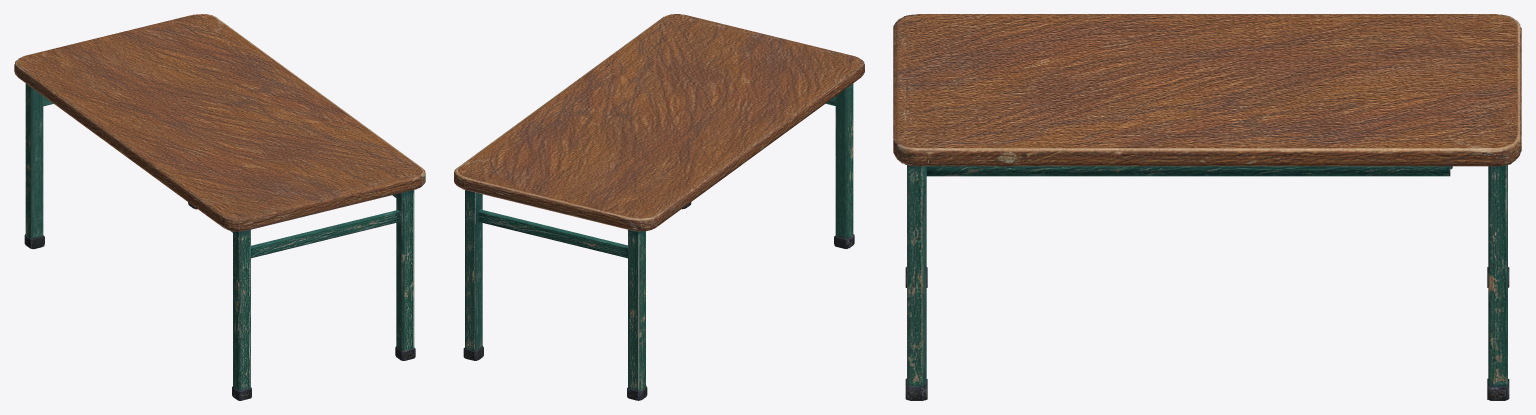
The model's file is Table.fbx.
The picture shows the model from 3 angles, left to right: view 1: azimuth 30°, elevation 25°; view 2: azimuth 150°, elevation 25°; view 3: azimuth 270°, elevation 25°; orthographic projection. The views are drawn at different scales.
Visible parts, largest first — view 1: tripo_node_1d9e8190-a33d-47ce-bbce-6b45ea2dd4ca; view 2: tripo_node_1d9e8190-a33d-47ce-bbce-6b45ea2dd4ca; view 3: tripo_node_1d9e8190-a33d-47ce-bbce-6b45ea2dd4ca.
Boxes of the visible parts, x1,y1,x2,y2 form: tripo_node_1d9e8190-a33d-47ce-bbce-6b45ea2dd4ca: (14, 14, 425, 400); tripo_node_1d9e8190-a33d-47ce-bbce-6b45ea2dd4ca: (454, 14, 864, 400); tripo_node_1d9e8190-a33d-47ce-bbce-6b45ea2dd4ca: (893, 14, 1521, 400).
Bounding box in the file's own units: 51.86 × 45.6 × 100.
Materials: 1 (1 with a texture image).
